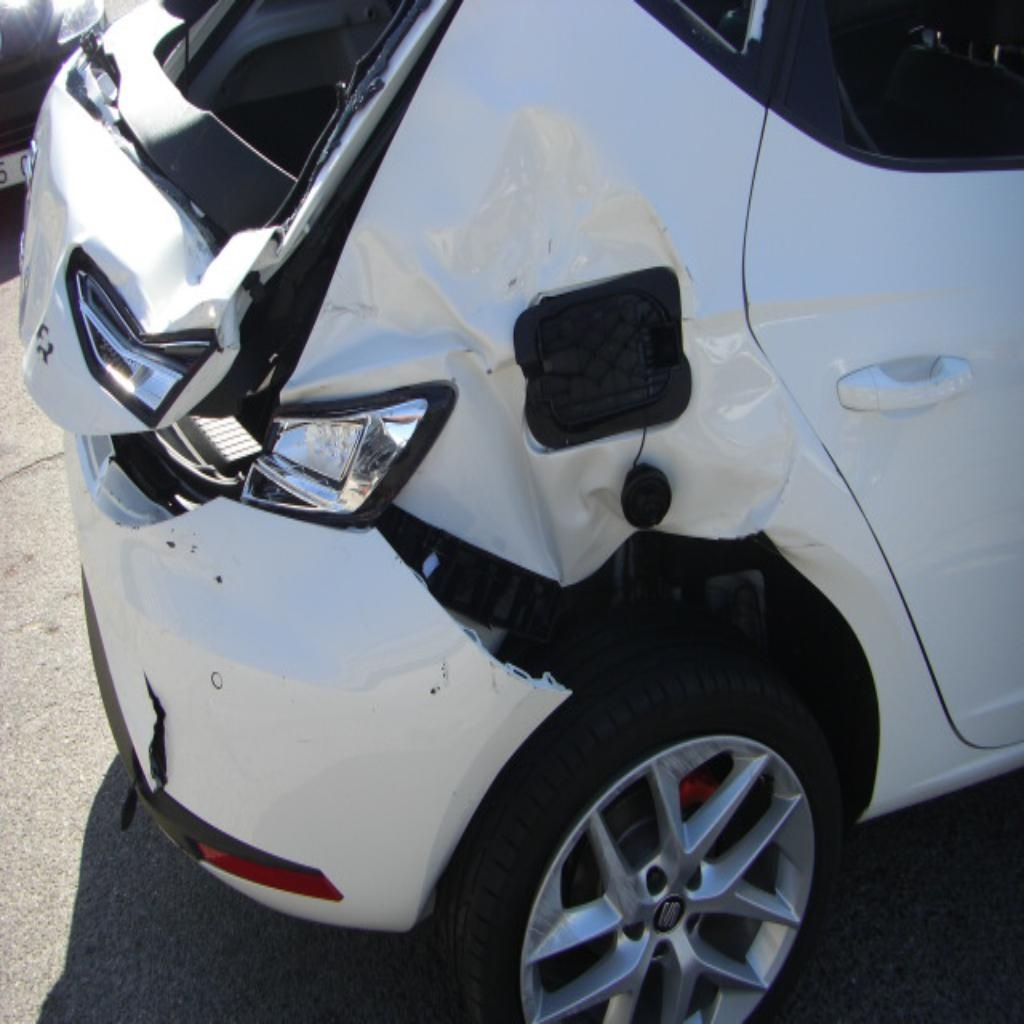Dent: (438, 101, 803, 584), (43, 31, 238, 192)
Smashed: (23, 231, 785, 952)
